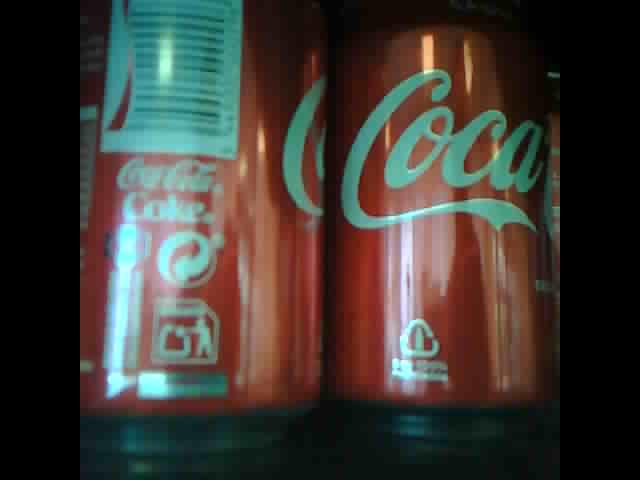coca cola: (77, 4, 330, 439), (327, 2, 545, 422), (532, 63, 559, 359)
